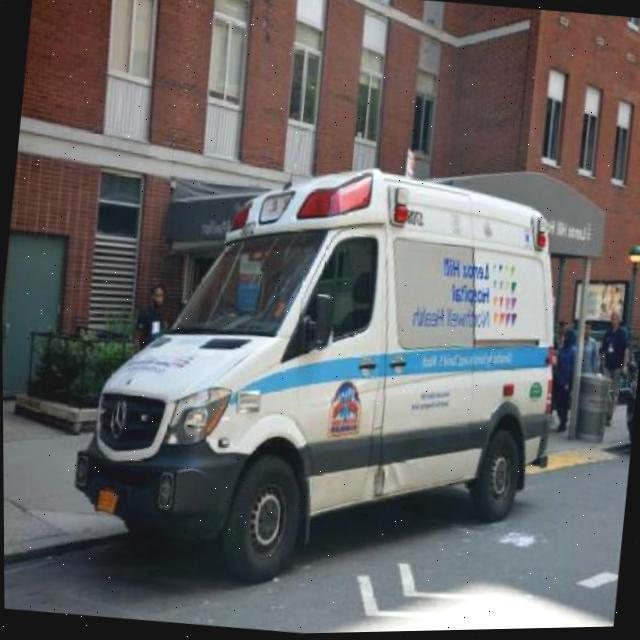emergency: (61, 140, 579, 619)
